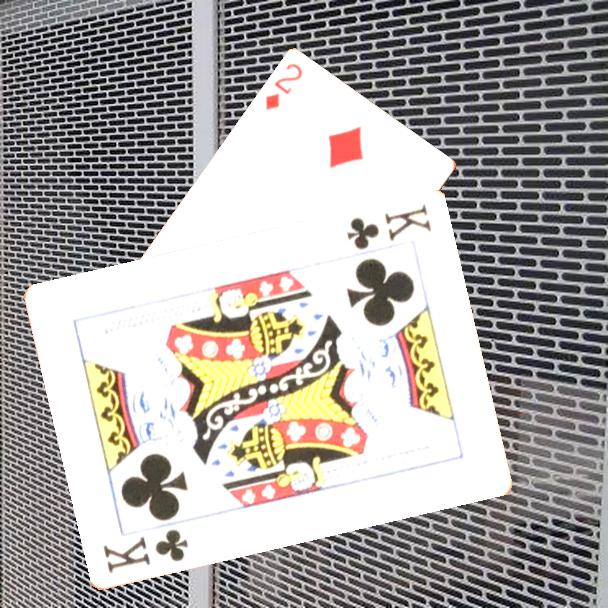c13: (343, 201, 434, 253), (99, 526, 191, 577)
d02: (262, 60, 306, 113)
